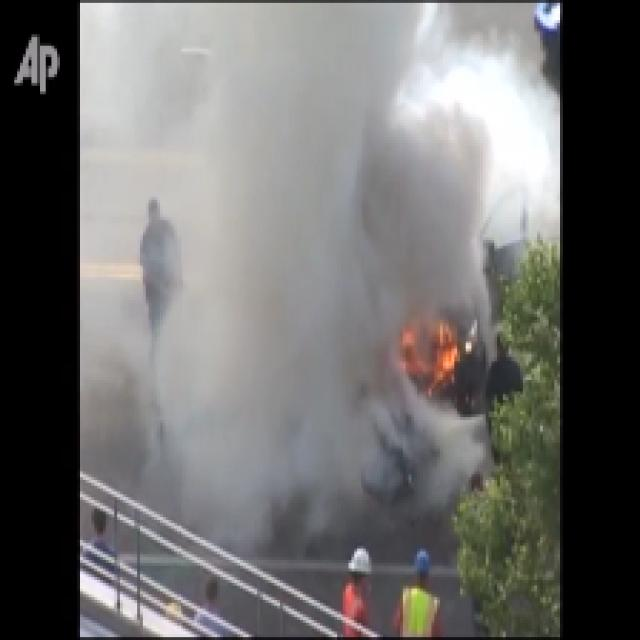smoke: (141, 2, 413, 516)
